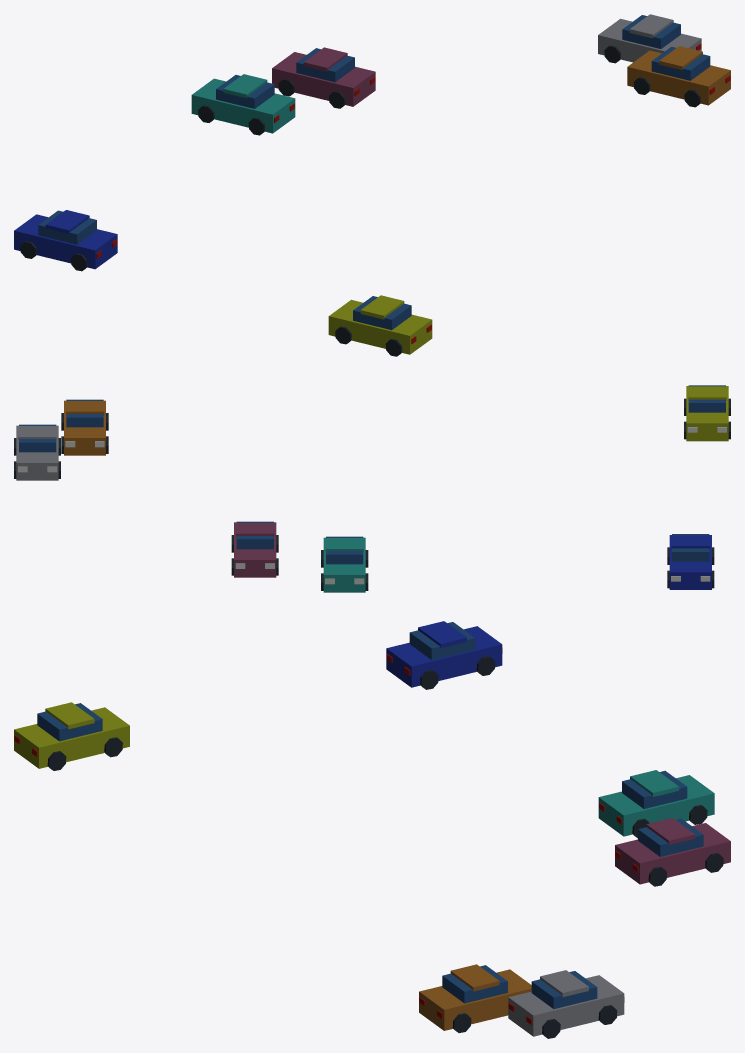
File: cars_1.glb
The picture shows the model from 3 angles, top to bottom: view 1: azimuth 30°, elevation 25°; view 2: azimuth 150°, elevation 25°; view 3: azimuth 270°, elevation 25°; orthographic projection. The views are drawn at different scales.
Parts seen in each view (by area): view 1: cars_1; view 2: cars_1; view 3: cars_1.
Part boxes in pixels (box(x1,y1,x2,y2)): cars_1: box(14, 14, 730, 356); cars_1: box(14, 385, 730, 592); cars_1: box(14, 621, 730, 1038).
Bounding box in the file's own units: 63.19 × 3.04 × 49.15.
